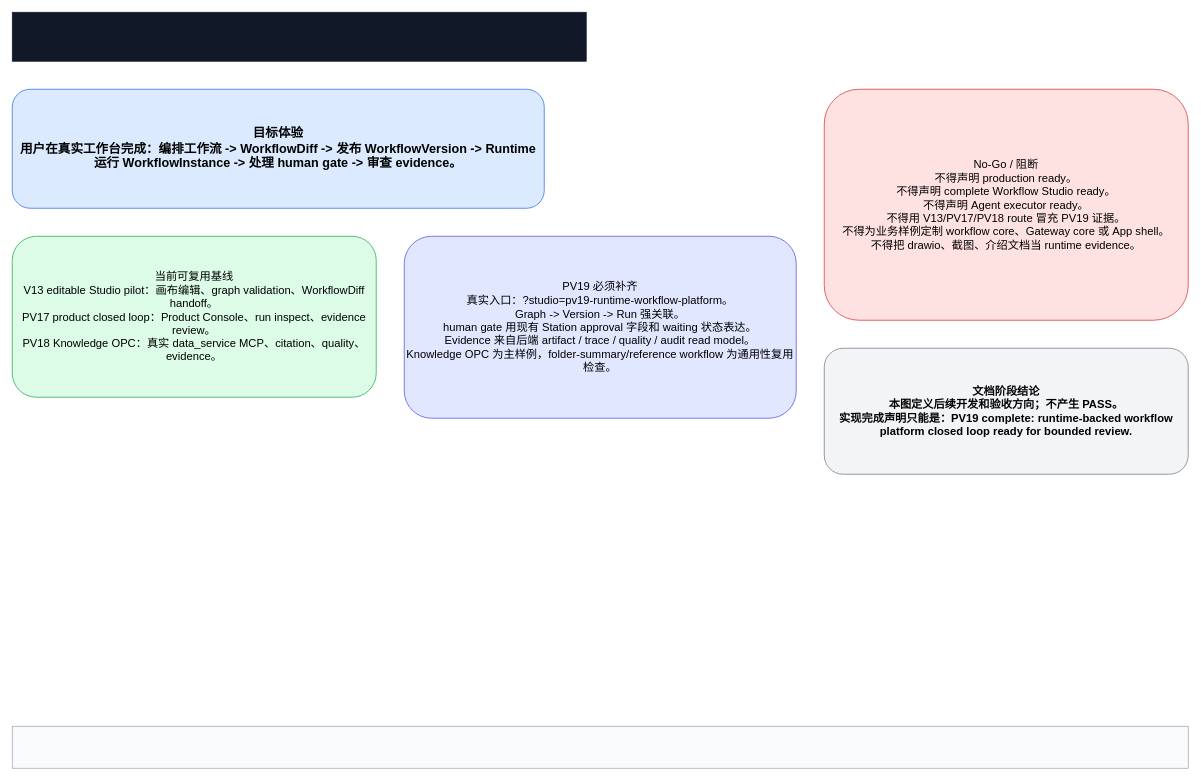
Some shapes in this 1201 by 781 pixel diagram are drawn without their labels. The shapes that lost their labels are listed below. From the top down, each one's centre as x and y in pixels, then its label:
At (x=299, y=36): "PV19 Runtime-backed Workflow Studio Closed Loop".
At (x=600, y=747): "颜色图例：绿色=已实现/可复用；蓝色=PV19 待新增；黄色=需修改/整合；红色=No-Go/阻断；灰色=文档或证据边界。".
